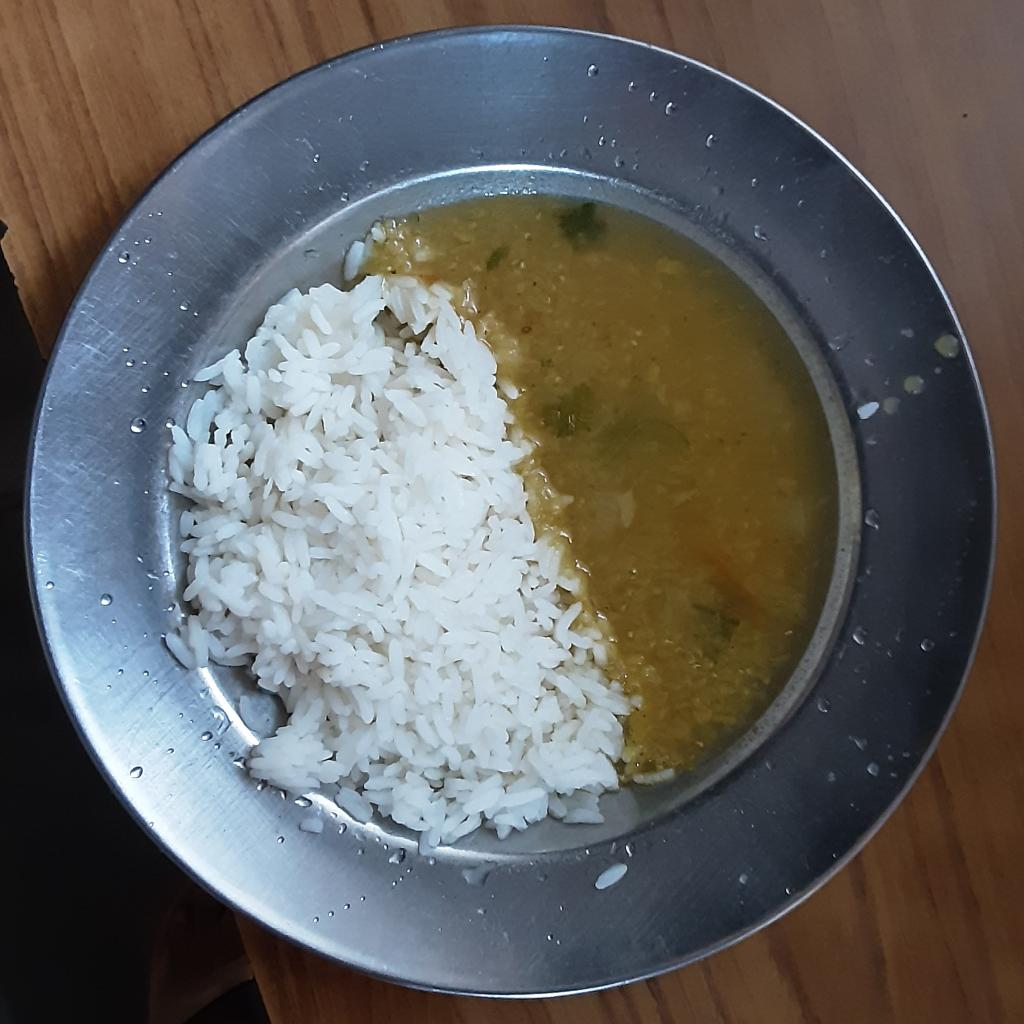daal: (362, 188, 841, 771)
rice: (171, 241, 623, 851), (599, 860, 628, 889)
